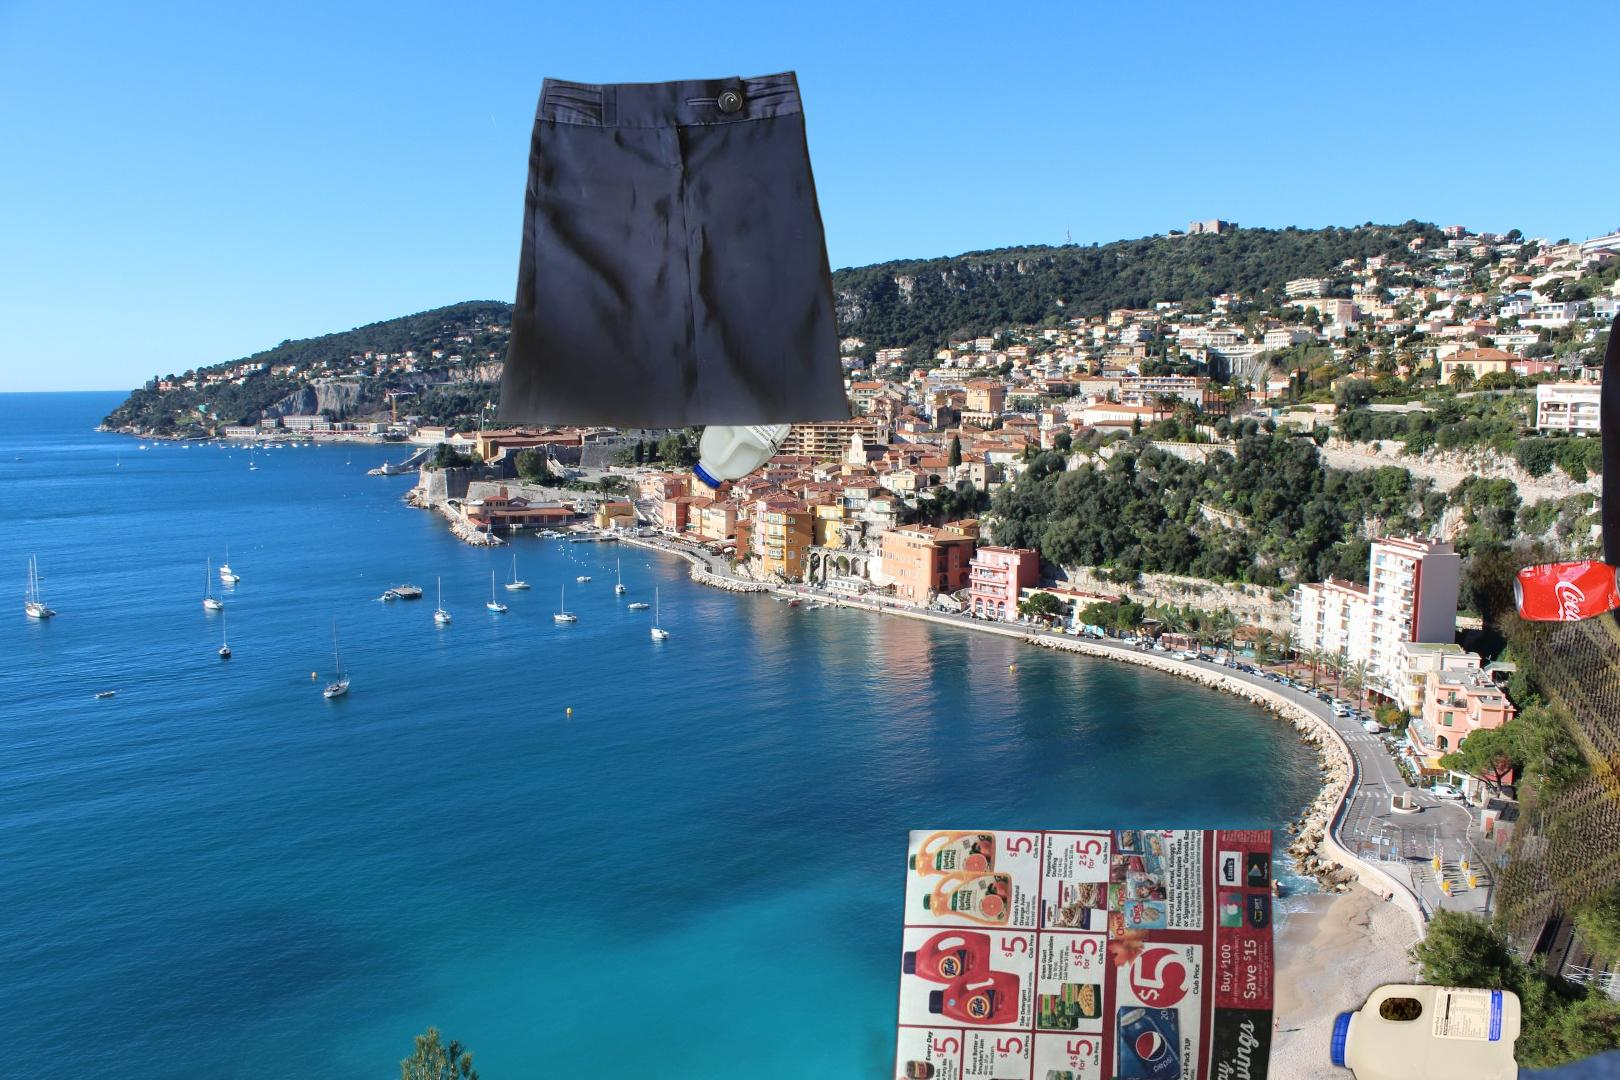clothes: (493, 66, 857, 434), (1597, 237, 1620, 658)
metal-cans: (1509, 553, 1620, 628)
paper: (851, 830, 1279, 1080)
plastic-bottles: (1270, 530, 1620, 1080), (688, 366, 799, 495)
